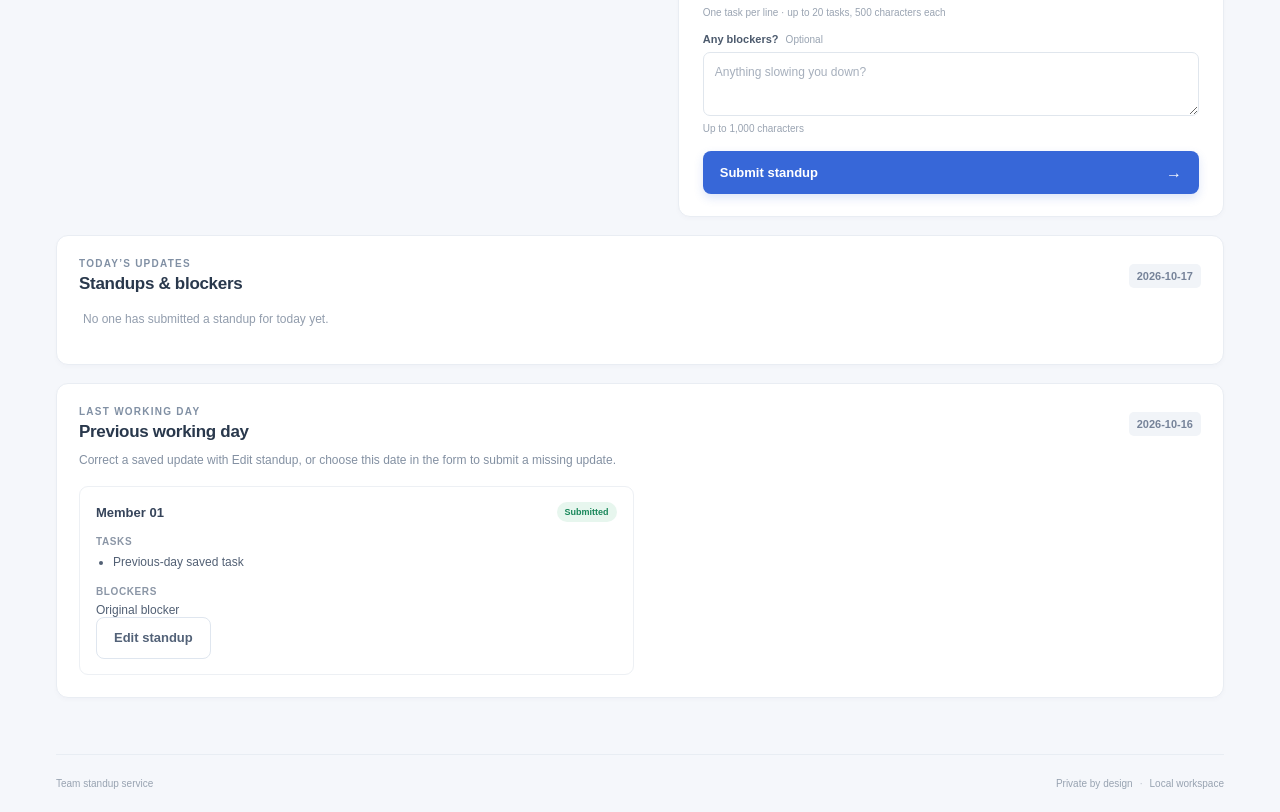
Scenario: standup UI › corrects Friday from the dashboard on 2026-10-17 without switching back to today
(page scrolled)
Click the button with aria-label "Edit Member 01 standup for 2026-10-16".
click(153, 638)  # box [96,617,211,659]
(page scrolled)
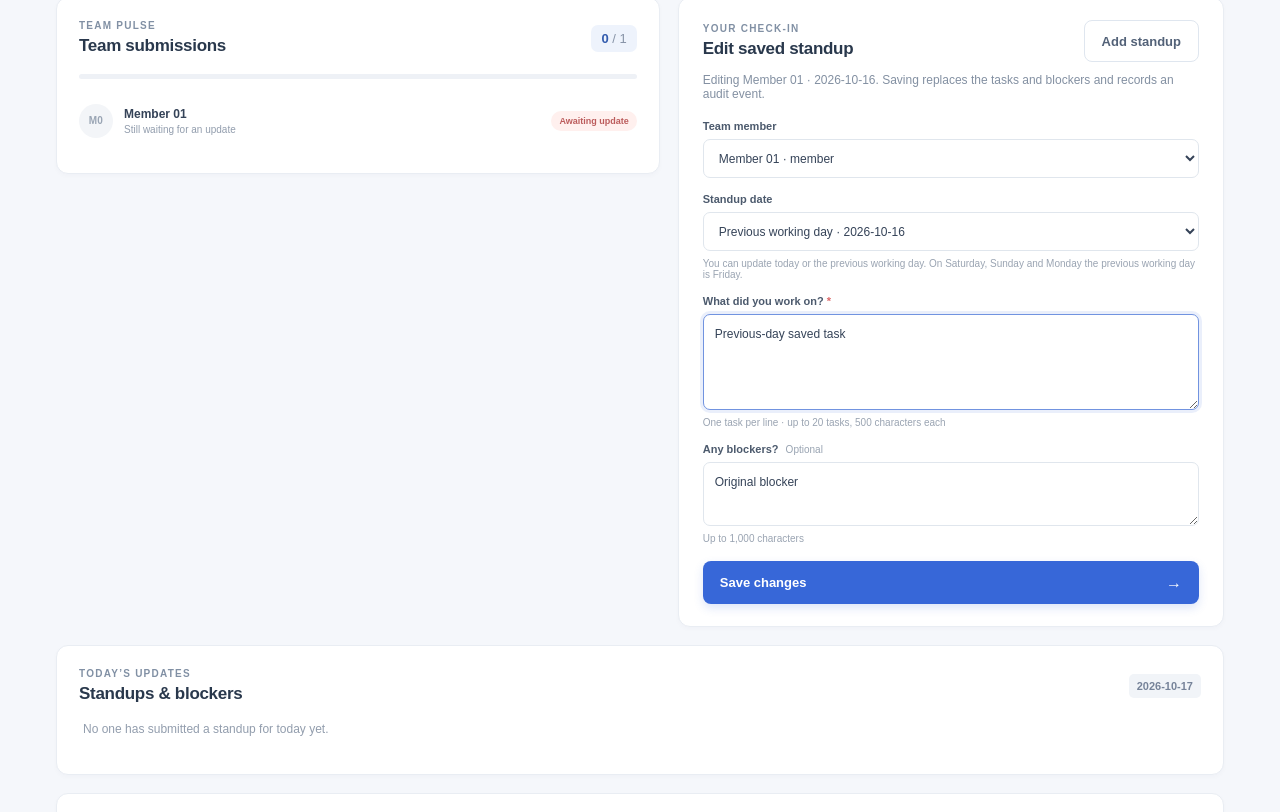
Now the heading "Edit saved standup" is shown, box [703,39,853,59]
Now the dropdown labelled "Standup date" shows "Previous working day · 2026-10-16", box [703,212,1199,251]
Now the text box labelled "What did you work on? *" holds "Previous-day saved task"
Replace the text in the text box labelled "What did you work on? *" with "Corrected Friday task" at {"x": 951, "y": 362}, box [703,314,1199,410]
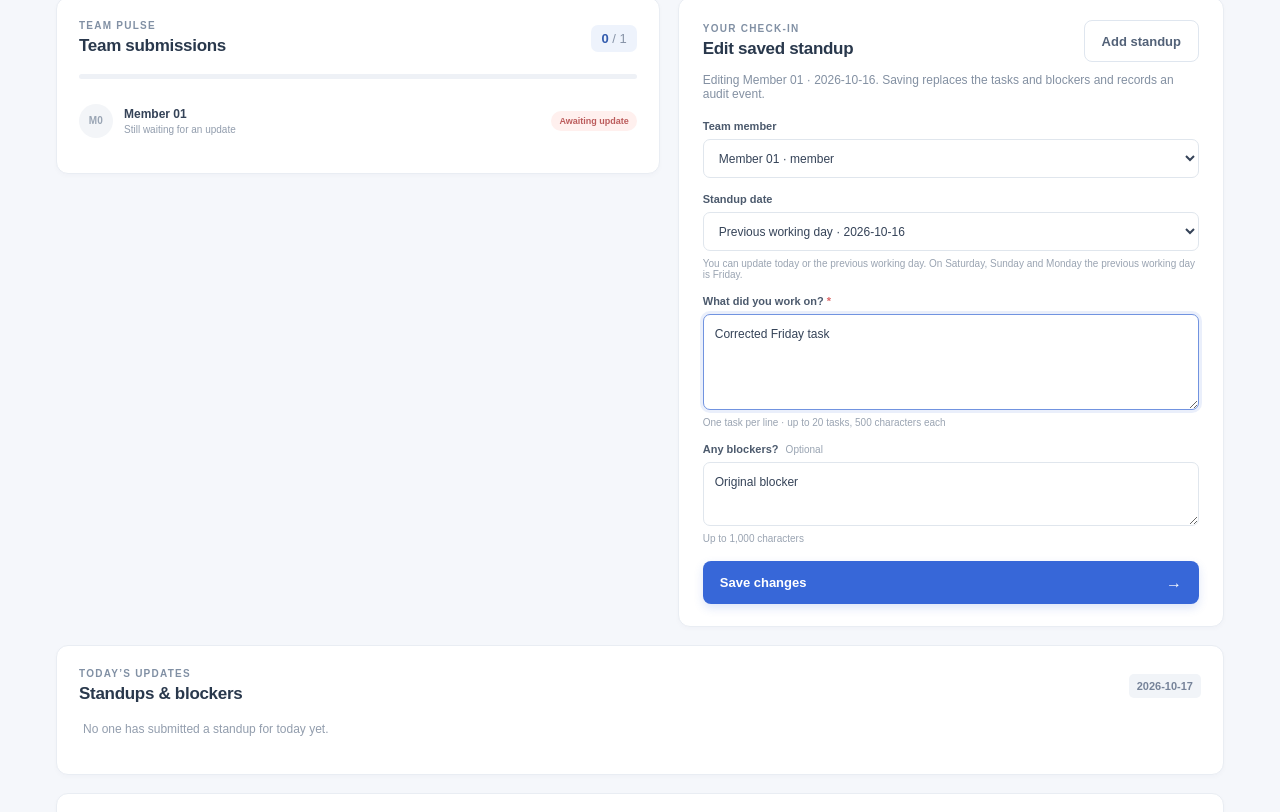
Replace the text in the text box labelled "Any blockers? Optional" with "Corrected blocker" at {"x": 951, "y": 494}, box [703,462,1199,526]
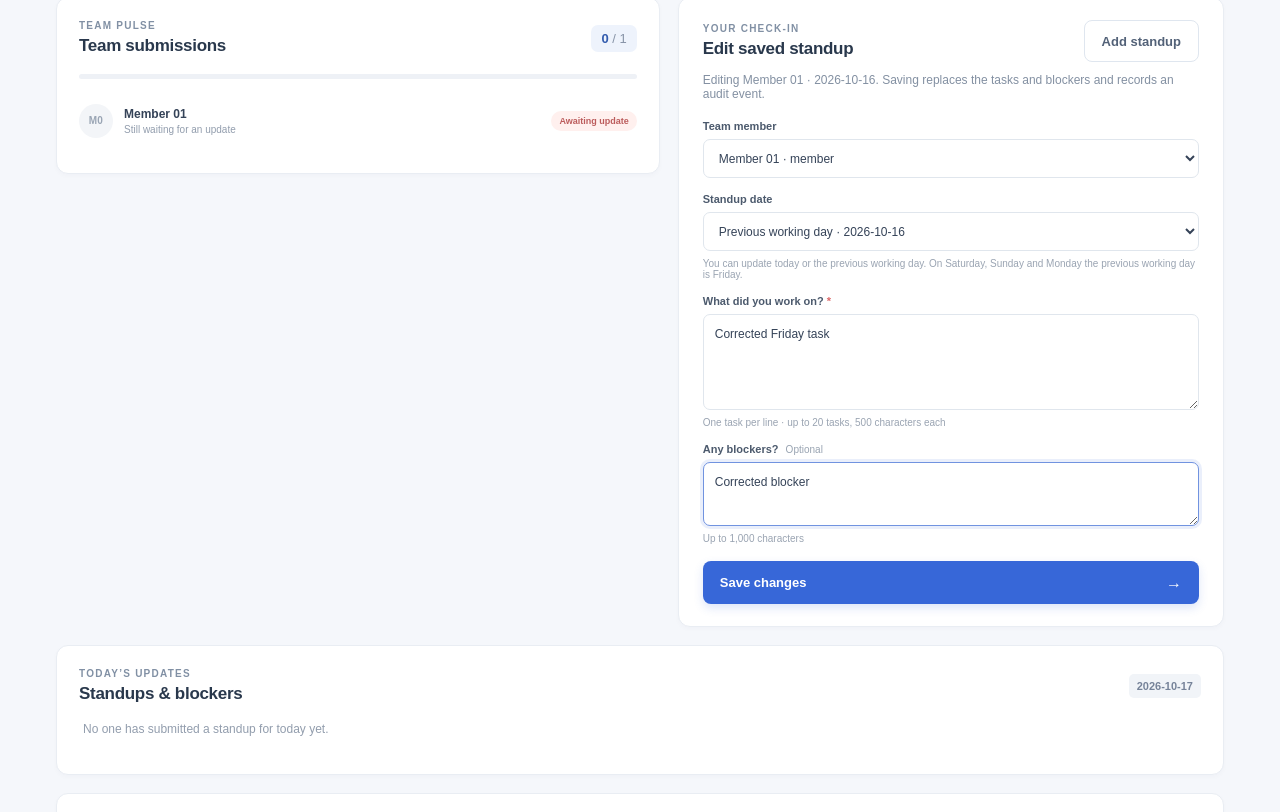
Click the button "Save changes →".
click(763, 583)  # box [703,561,1199,604]
(page scrolled)
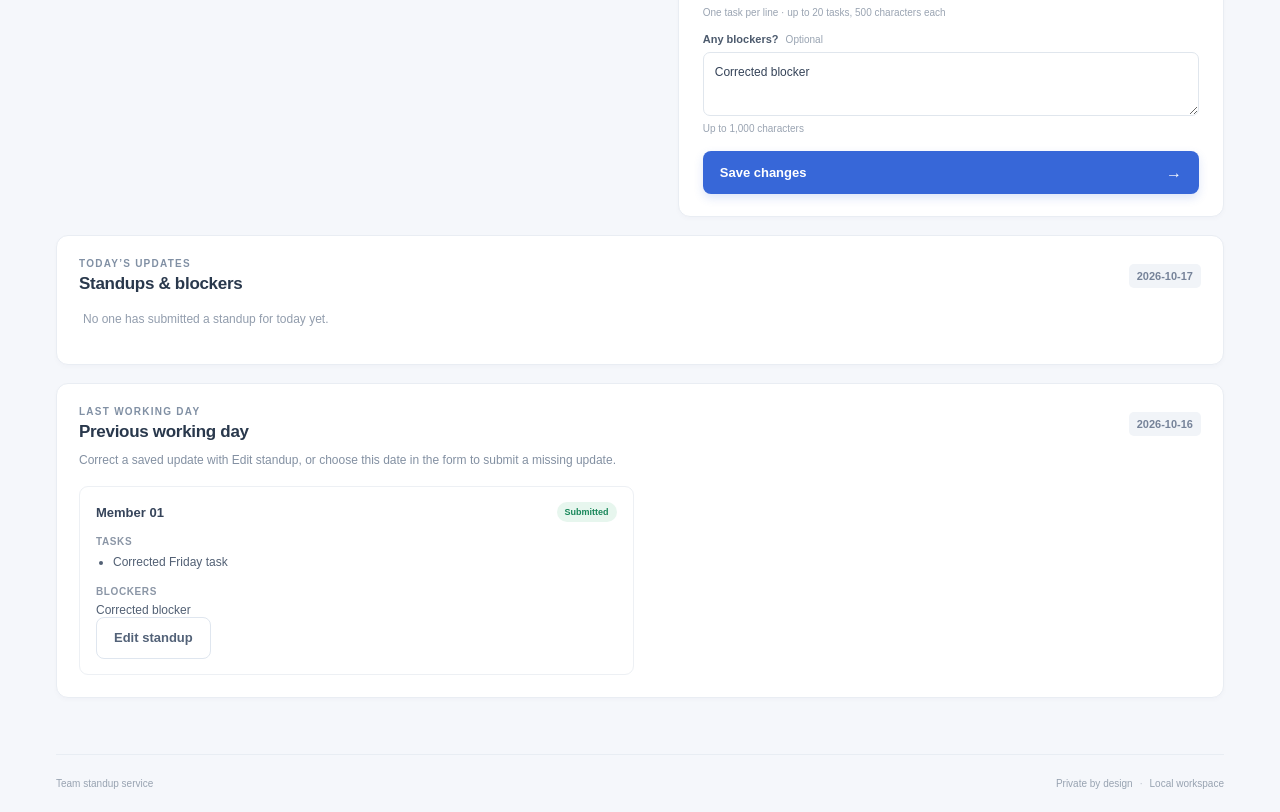
Now the list item "Corrected Friday task" is shown, box [113,555,228,569]
